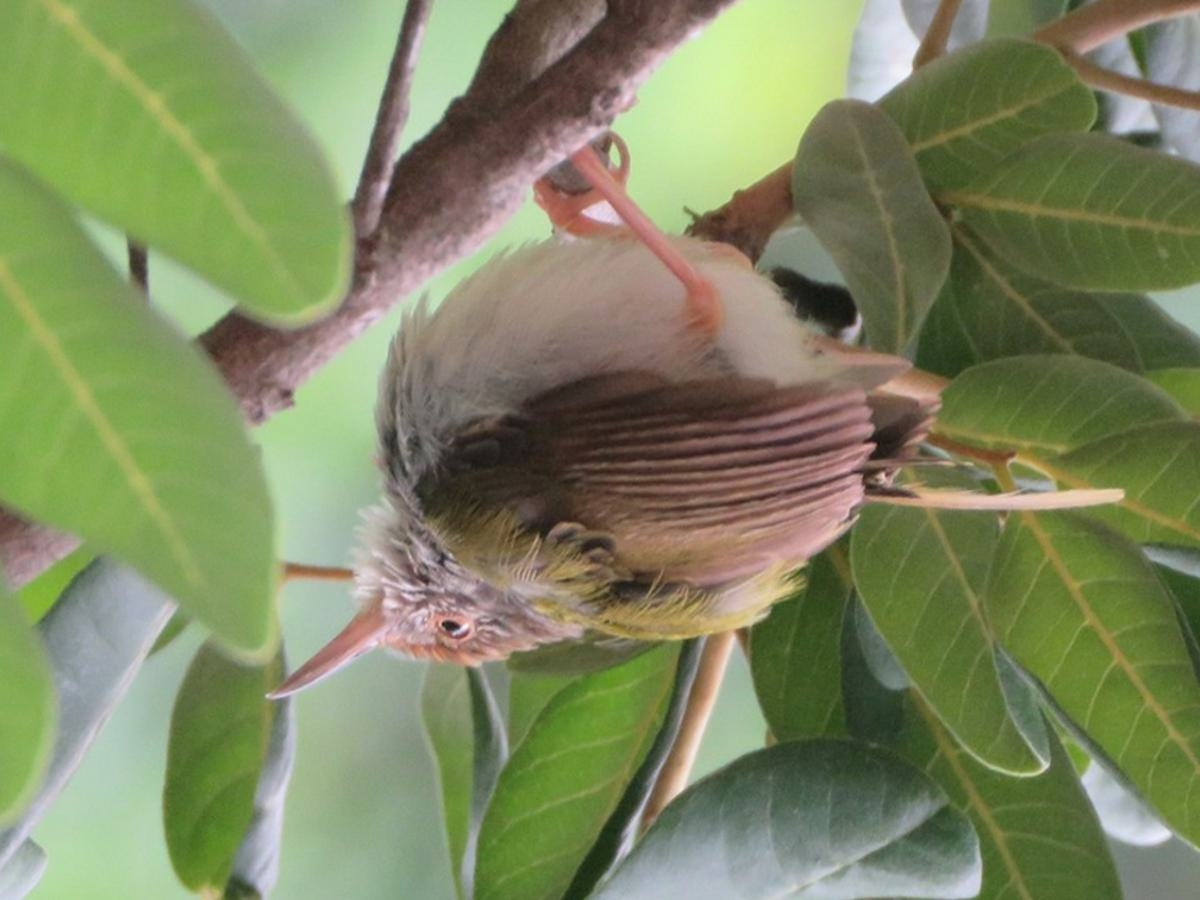tailorbird: (253, 173, 993, 767)
